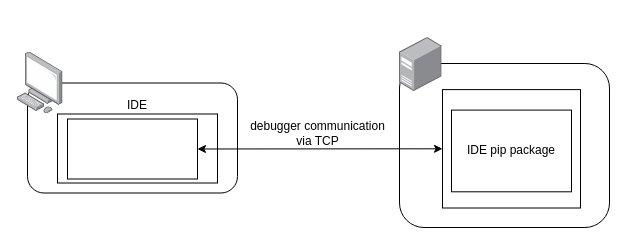
This 627x245 diagram has some shape labels left out. The shapes that lost their labels are listed below. From the top down, each one's box as (x1, y1, x2, y2) in pixels, then its label:
(66, 118, 198, 179): Debugger Configuration Runner
(442, 89, 580, 208): Python script process
